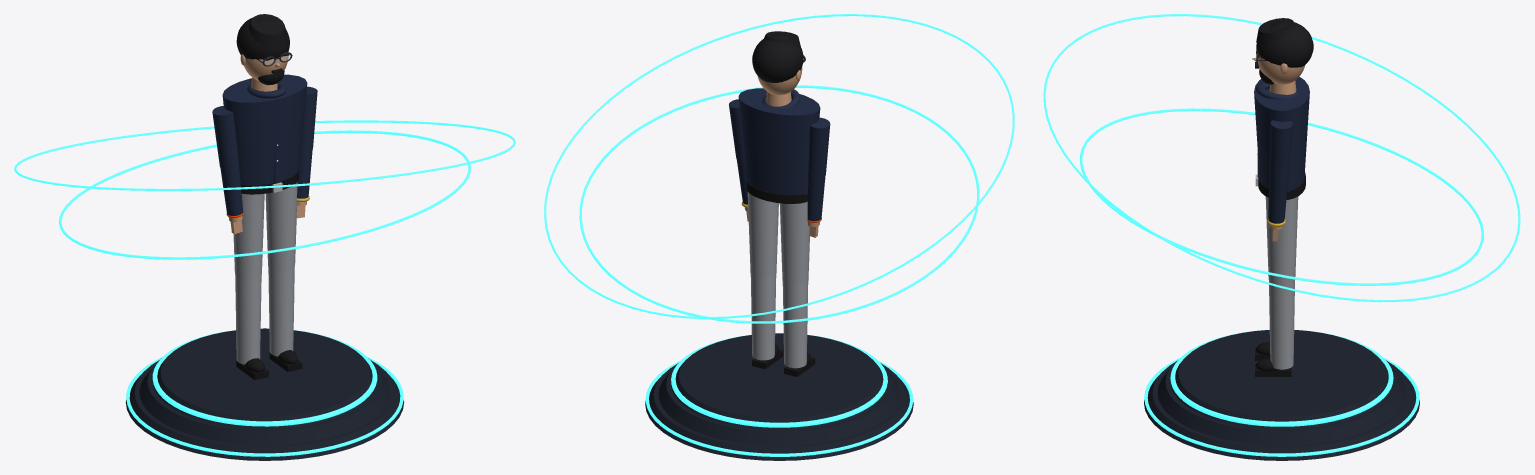
File: abhishek_gaur.glb
3 views of the same model, side by side, from view 1: azimuth 30°, elevation 25°; view 2: azimuth 150°, elevation 25°; view 3: azimuth 270°, elevation 25° (orthographic). The views are drawn at different scales.
Parts seen in each view (by area): view 1: Cyber_Pedestal_Podium, Abhishek_Gaur_Character; view 2: Cyber_Pedestal_Podium, Abhishek_Gaur_Character; view 3: Cyber_Pedestal_Podium, Abhishek_Gaur_Character.
Boxes of the visible parts, <box> form: Cyber_Pedestal_Podium: <box>14,120,515,460</box>; Abhishek_Gaur_Character: <box>212,14,317,380</box>; Cyber_Pedestal_Podium: <box>544,14,1014,460</box>; Abhishek_Gaur_Character: <box>729,31,830,376</box>; Cyber_Pedestal_Podium: <box>1043,14,1520,460</box>; Abhishek_Gaur_Character: <box>1252,18,1313,376</box>.
Bounding box in the file's own units: 2.3 × 1.94 × 2.21.
